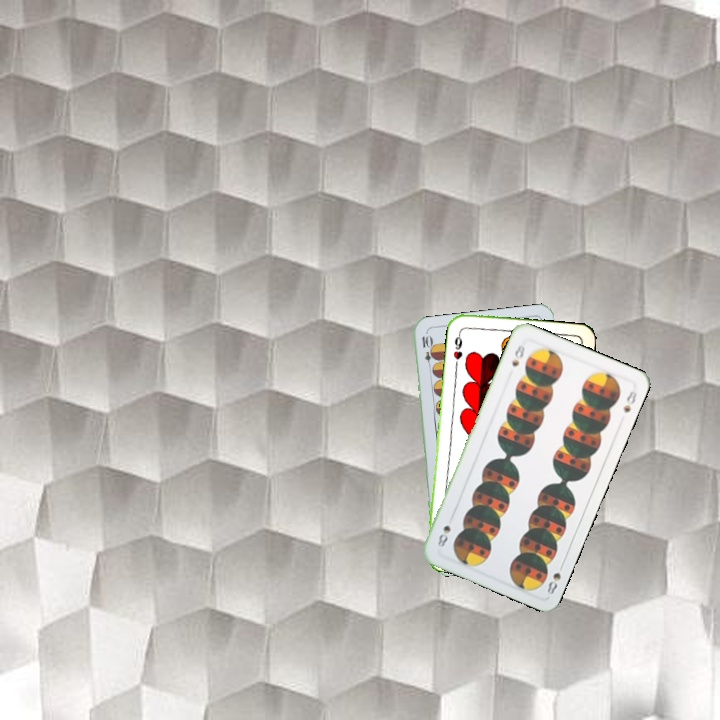E10: (418, 331, 435, 372)
H9: (449, 327, 465, 367)
S8: (543, 558, 567, 597), (507, 340, 528, 369)
